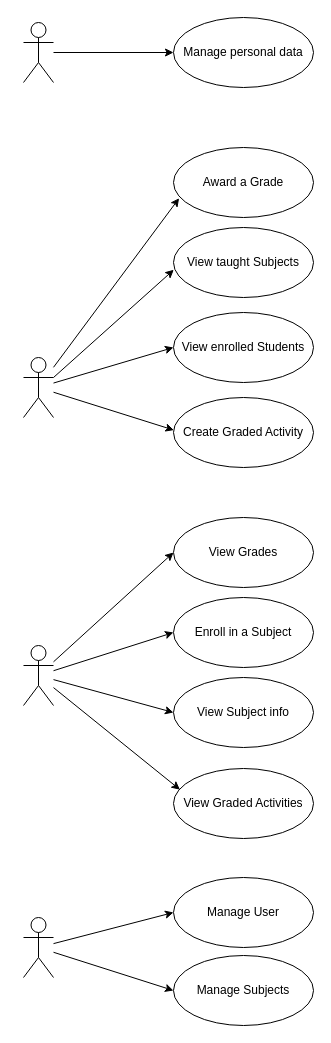
The diagram is 331 pixels wide and 1043 high, and some of its shapes have lost their labels. Each missing label, with the centre of its shape:
"Admin" belongs at (x=38, y=947).
"Student" belongs at (x=38, y=675).
"Teacher" belongs at (x=38, y=387).
"User" belongs at (x=38, y=52).
